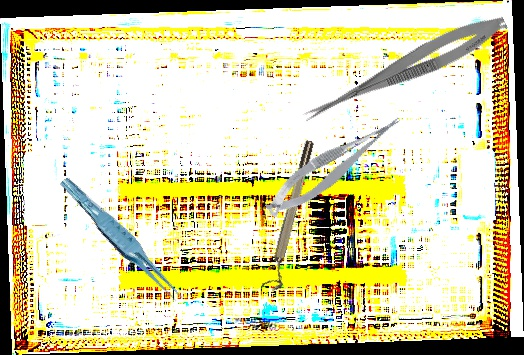Fixation Ring: (261, 139, 323, 293)
Micro Scissor: (299, 6, 511, 135), (256, 110, 413, 223)
Tissue Forceps: (58, 168, 186, 314)
